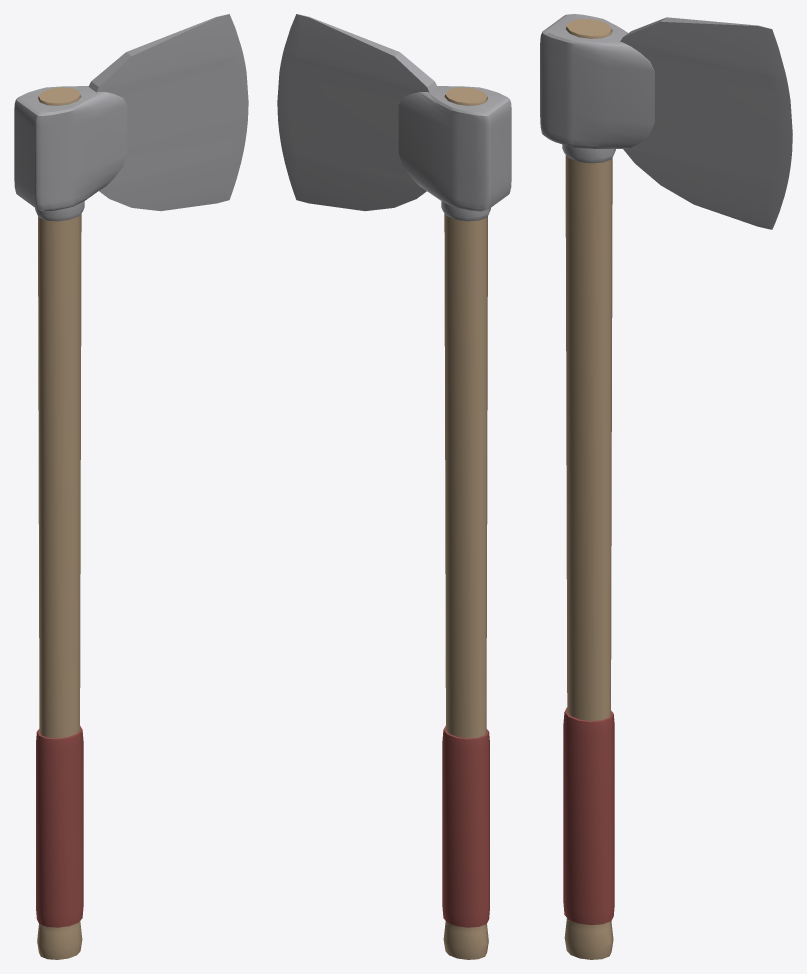
Rendered from asset.glb.
3 renders of one model, left to right at view 1: azimuth 30°, elevation 25°; view 2: azimuth 150°, elevation 25°; view 3: azimuth 330°, elevation 25°, orthographic. The views are drawn at different scales.
Visible parts, largest first — view 1: haft, bit, head, grip; view 2: haft, bit, head, grip; view 3: haft, bit, head, grip.
Boxes of the visible parts, bbox=[...] form: haft: bbox=[37, 87, 82, 959]; bit: bbox=[88, 14, 248, 211]; head: bbox=[14, 86, 127, 221]; grip: bbox=[36, 726, 83, 927]; haft: bbox=[443, 87, 488, 959]; bit: bbox=[277, 14, 437, 211]; head: bbox=[398, 86, 511, 221]; grip: bbox=[442, 726, 489, 927]; haft: bbox=[564, 19, 613, 959]; bit: bbox=[620, 17, 792, 229]; head: bbox=[540, 14, 654, 163]; grip: bbox=[563, 707, 614, 924].
Bounding box in the file's own units: 0.1432 × 0.5482 × 0.0325.
